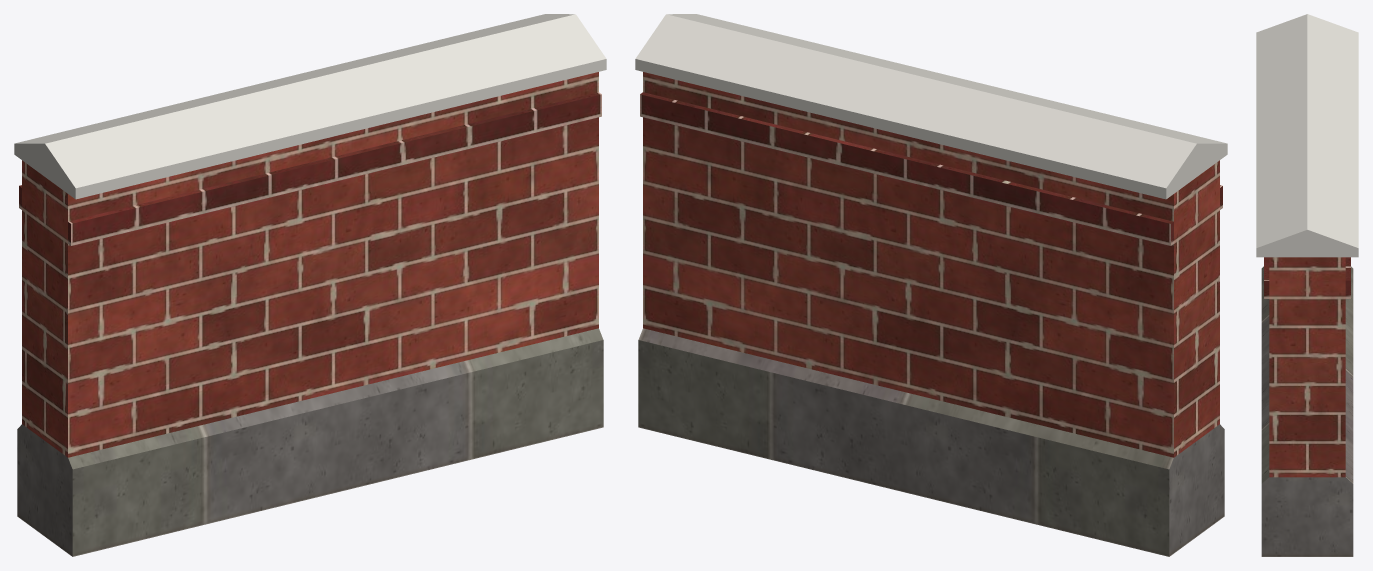
File: yard_wall_b.glb
The picture shows the model from 3 angles, left to right: view 1: azimuth 30°, elevation 25°; view 2: azimuth 150°, elevation 25°; view 3: azimuth 270°, elevation 25°; orthographic projection. The views are drawn at different scales.
Parts seen in each view (by area): view 1: yard_wall_b_brick, yard_wall_b_plinth, yard_wall_b_coping, yard_wall_b_brick2; view 2: yard_wall_b_brick, yard_wall_b_plinth, yard_wall_b_coping, yard_wall_b_brick2; view 3: yard_wall_b_coping, yard_wall_b_brick, yard_wall_b_plinth, yard_wall_b_brick2.
Part boxes in pixels (bbox=[...]): yard_wall_b_brick: bbox=[22, 72, 598, 457]; yard_wall_b_plinth: bbox=[17, 328, 603, 556]; yard_wall_b_coping: bbox=[14, 14, 606, 199]; yard_wall_b_brick2: bbox=[19, 92, 601, 245]; yard_wall_b_brick: bbox=[643, 72, 1219, 457]; yard_wall_b_plinth: bbox=[638, 328, 1224, 556]; yard_wall_b_coping: bbox=[635, 14, 1227, 199]; yard_wall_b_brick2: bbox=[640, 92, 1222, 245]; yard_wall_b_coping: bbox=[1256, 14, 1358, 257]; yard_wall_b_brick: bbox=[1269, 257, 1345, 477]; yard_wall_b_plinth: bbox=[1261, 266, 1353, 556]; yard_wall_b_brick2: bbox=[1264, 257, 1350, 298].
Size of the model in its own units: 2 by 1.41 by 0.4.
4 materials, 3 textured.
